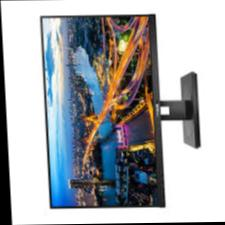monitor: (34, 5, 208, 214)
